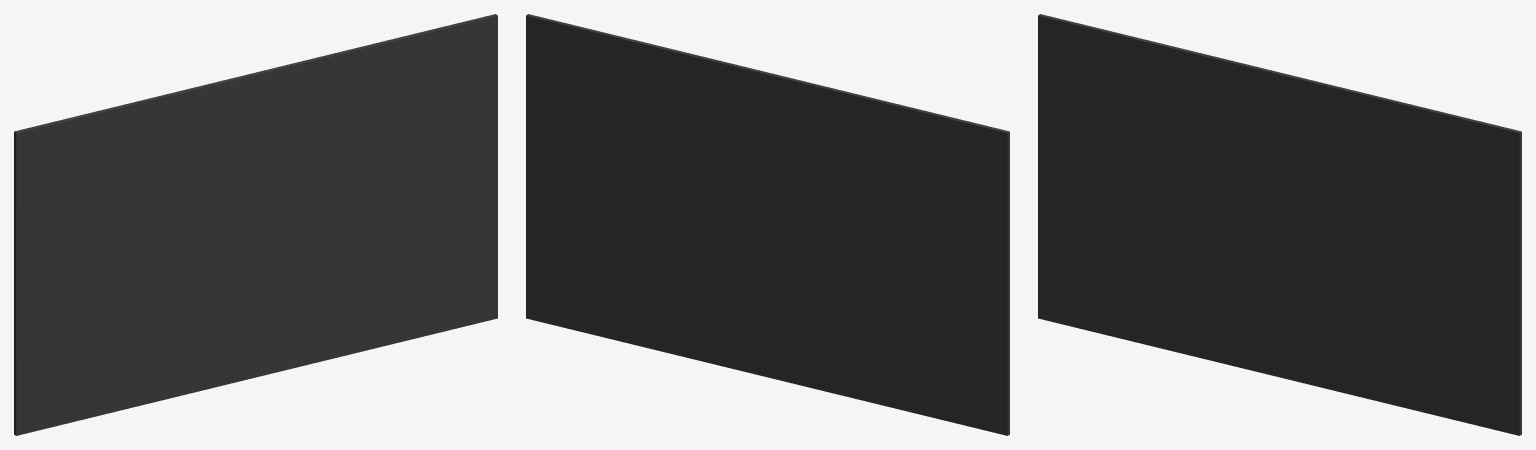
Rendered from textile-noticeboard-2005x1205.glb.
The picture shows the model from 3 angles, left to right: view 1: azimuth 30°, elevation 25°; view 2: azimuth 150°, elevation 25°; view 3: azimuth 330°, elevation 25°; orthographic projection.
Visible parts, largest first — view 1: Textile_Noticeboard_2005x1205_27828.obj; view 2: Textile_Noticeboard_2005x1205_27828.obj; view 3: Textile_Noticeboard_2005x1205_27828.obj.
Part boxes in pixels (x1,y1,x2,y2): Textile_Noticeboard_2005x1205_27828.obj: (14, 14, 497, 435); Textile_Noticeboard_2005x1205_27828.obj: (526, 14, 1009, 435); Textile_Noticeboard_2005x1205_27828.obj: (1038, 14, 1521, 435).
Size of the model in its own units: 2.01 by 1.21 by 0.016.
1 material, 1 textured.
